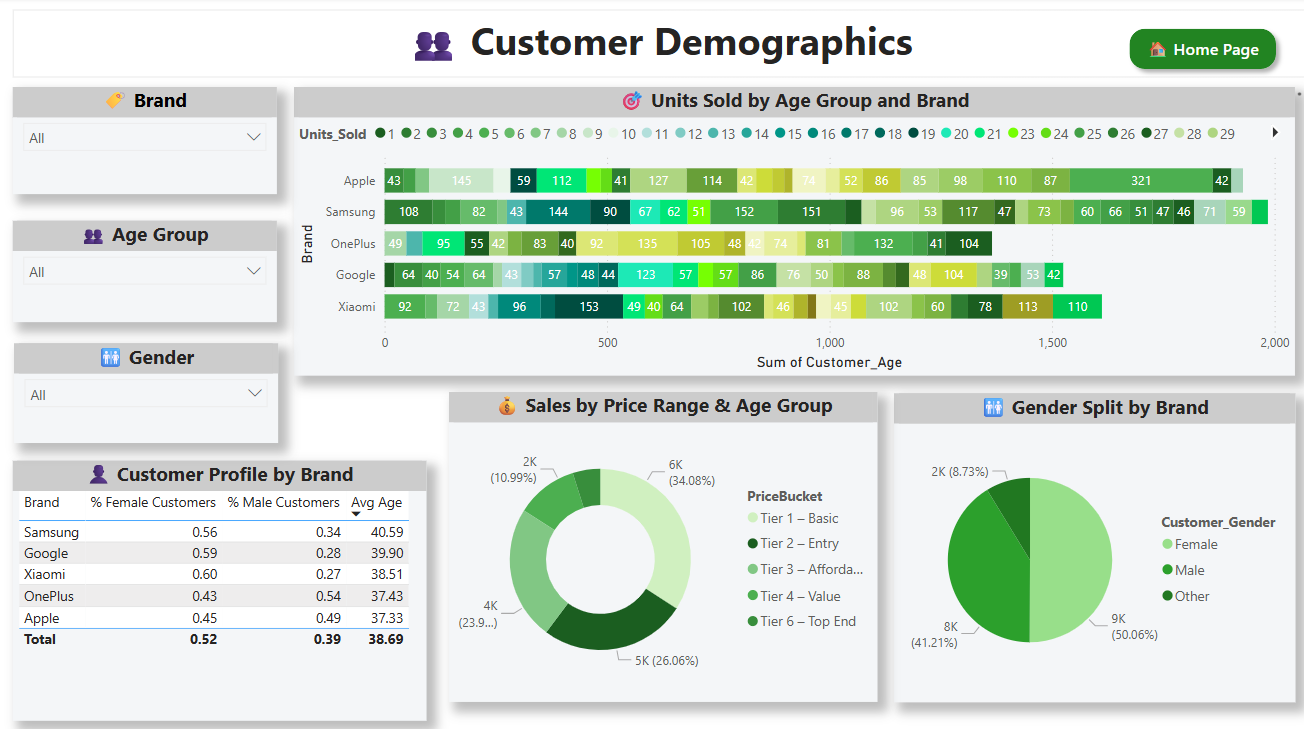

This screenshot's page, from the dashboard's own definition file:
{"tool":"powerbi","page":{"name":"👤 Customer Demographics","canvas":[1280,720],"ordinal":2},"visuals":[{"type":"textbox","box":[13.5,12.2,1266.9,66],"z":0},{"type":"shape","box":[1096.9,22,161.4,57.5],"z":1000},{"type":"barChart","title":"🎯 Units Sold by Age Group and Brand","fields":{"Y":["Sum(Fact_Sales.Customer_Age)"],"Category":["Fact_Sales.Brand"],"Series":["Fact_Sales.Units_Sold"]},"box":[288.6,88,979.5,282.5],"z":2000},{"type":"pieChart","title":"🚻 Gender Split by Brand","fields":{"Category":["Fact_Sales.Customer_Gender"],"Y":["Sum(Fact_Sales.Units_Sold)"]},"box":[875.5,387.6,392.5,302],"z":3000},{"type":"donutChart","title":"💰 Sales by Price Range & Age Group","fields":{"Y":["Sum(Fact_Sales.Units_Sold)"],"Category":["Fact_Sales.PriceBucket"]},"box":[440.2,386.4,419.4,303.3],"z":4000},{"type":"tableEx","title":"👤 Customer Profile by Brand","fields":{"Values":["Dim_Products.Brand","Fact_Sales.% Female Customers","Fact_Sales.% Male Customers","Fact_Sales.Avg Age"]},"box":[13.5,453.7,404.8,254.3],"z":5000},{"type":"slicer","title":"🚻 Gender","fields":{"Values":["Fact_Sales.Brand"]},"box":[14.7,338.7,258,97.8],"z":6000},{"type":"slicer","title":"👥 Age Group","fields":{"Values":["Fact_Sales.Customer_Age_Group"]},"box":[13.5,218.9,258,99],"z":7000},{"type":"slicer","title":"🏷️ Brand","fields":{"Values":["Fact_Sales.Customer_Age_Group"]},"box":[13.5,88,258,105.2],"z":8000}]}

Visuals, with their boxes in screenshot pixels (x1, y1, x2, y2), scaled from the page's 1280x720 canvas onto the 1304x729 screenshot:
textbox: <bbox>14, 12, 1303, 79</bbox>
shape: <bbox>1117, 22, 1282, 80</bbox>
"🎯 Units Sold by Age Group and Brand" barChart: <bbox>294, 89, 1292, 375</bbox>
"🚻 Gender Split by Brand" pieChart: <bbox>892, 392, 1292, 698</bbox>
"💰 Sales by Price Range & Age Group" donutChart: <bbox>448, 391, 876, 698</bbox>
"👤 Customer Profile by Brand" tableEx: <bbox>14, 459, 426, 717</bbox>
"🚻 Gender" slicer: <bbox>15, 343, 278, 442</bbox>
"👥 Age Group" slicer: <bbox>14, 222, 277, 322</bbox>
"🏷️ Brand" slicer: <bbox>14, 89, 277, 196</bbox>
